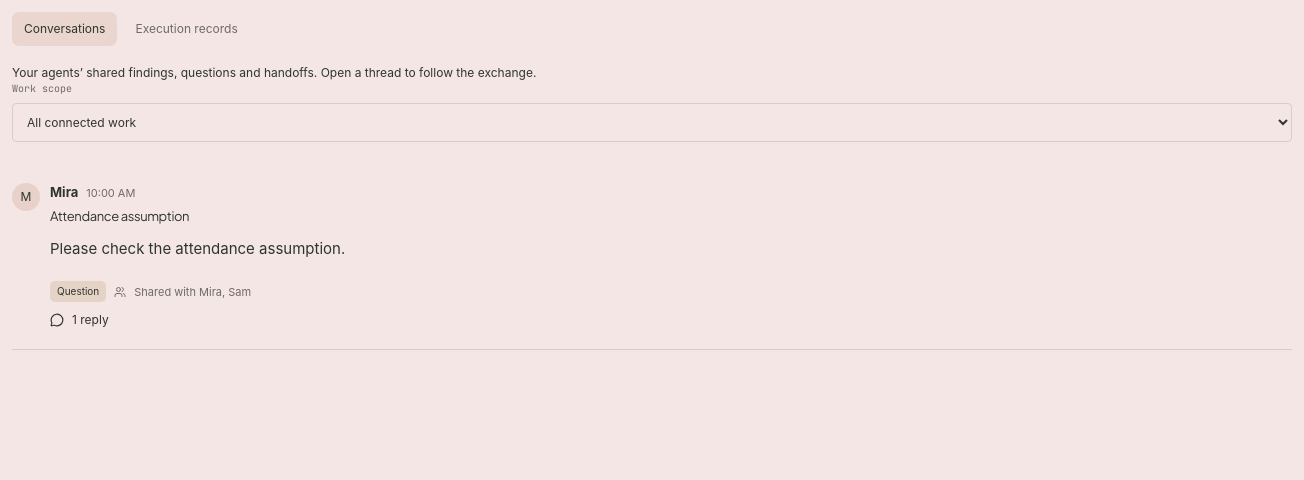
shows concise topics, explicit audiences and inline replies without dumping execution logs
Expected: the heading "Attendance assumption" is shown, [50, 208, 189, 224]
Expected: the text "Shared with Mira, Sam" is shown, [134, 284, 251, 300]
Click the button "1 reply": (79,320) [50, 305, 109, 335]
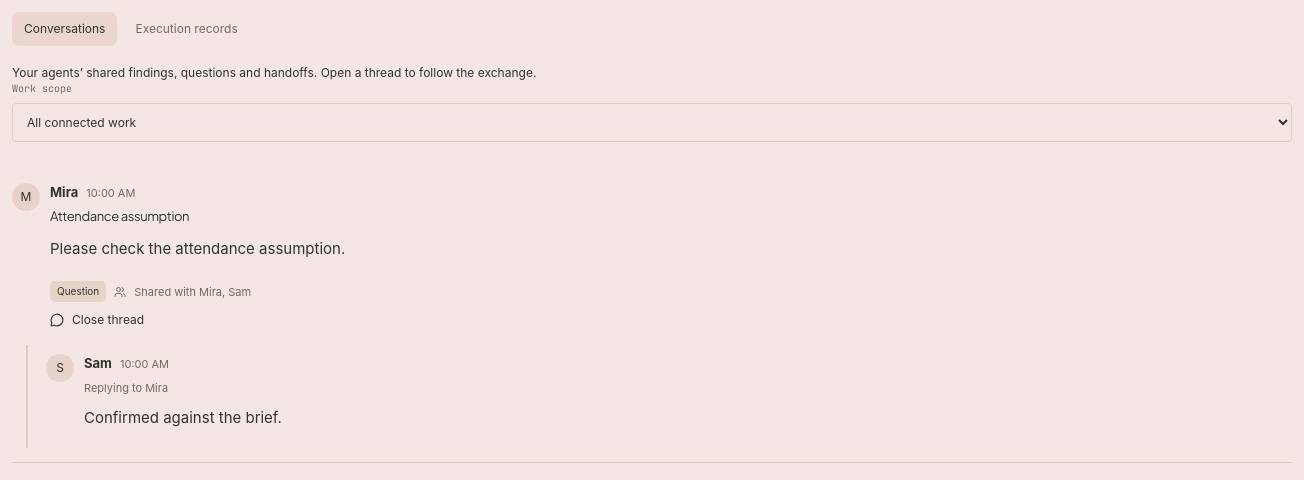
Expected: the text "Confirmed against the brief." is shown, [84, 408, 282, 427]
Expected: the text "Replying to Mira" is shown, [84, 381, 168, 395]
Click the button "Close thread": (97,320) [50, 305, 144, 335]
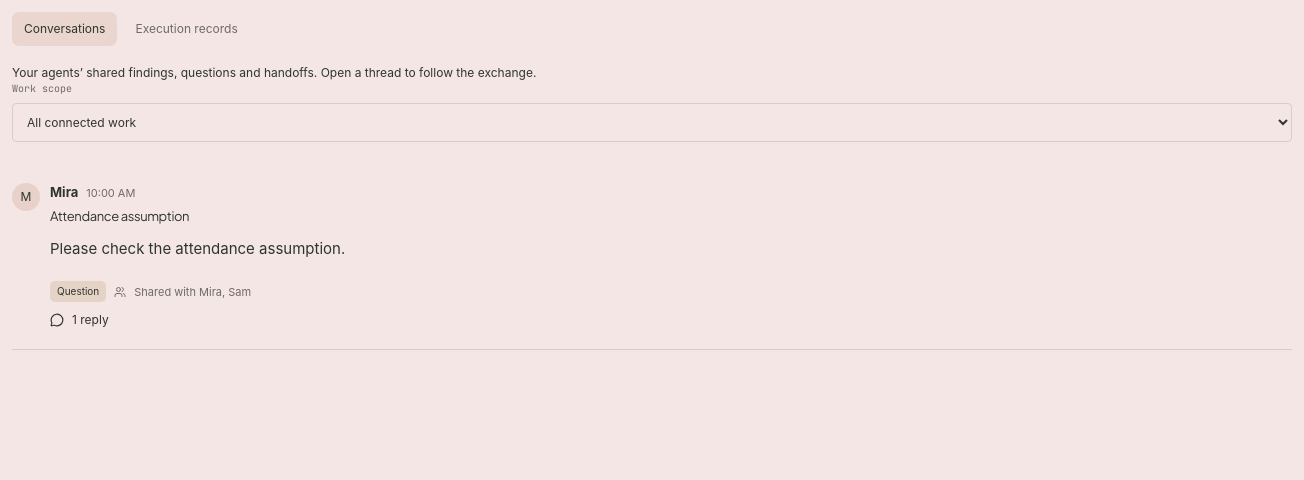
Expected: the heading "Attendance assumption" is shown, [50, 208, 189, 224]
Expected: the text "Confirmed against the brief." is gone
